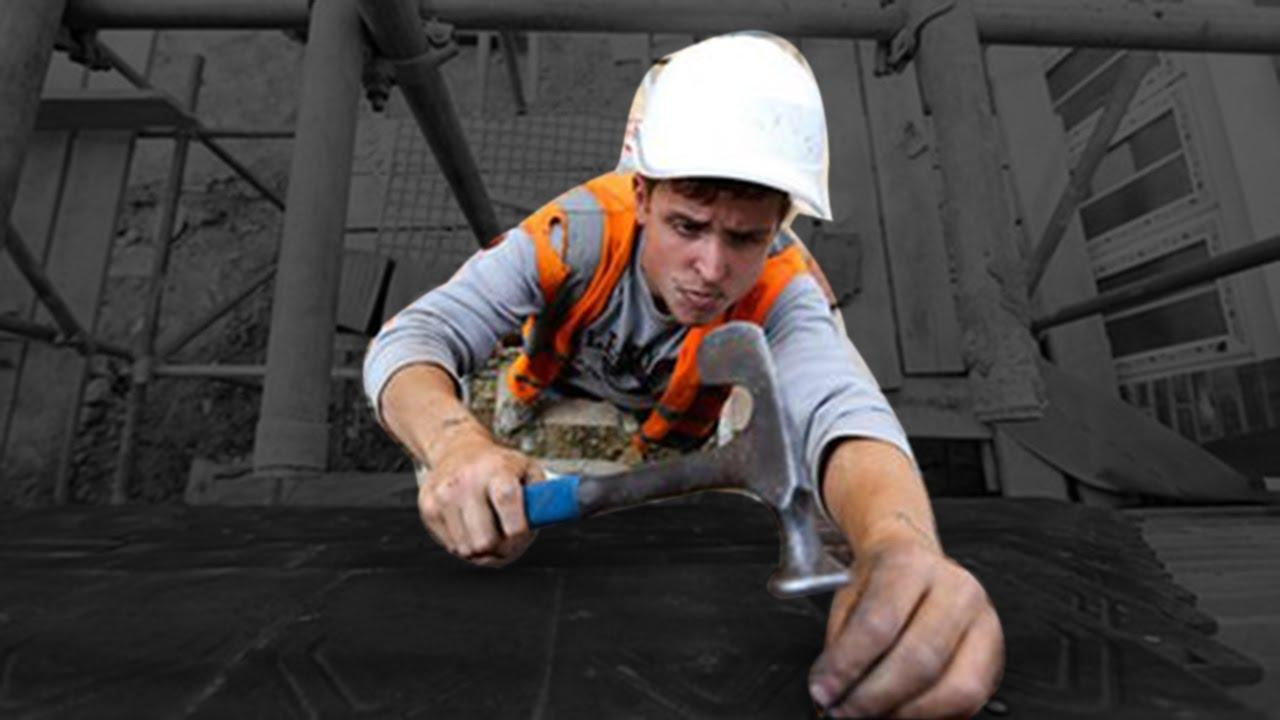helmet: (637, 33, 837, 222)
